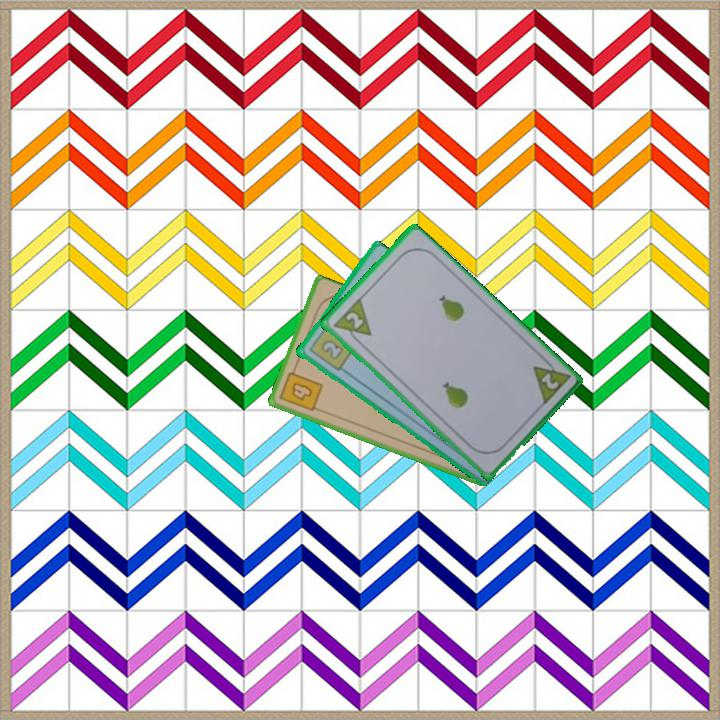2b: (305, 319, 357, 374)
2p: (329, 295, 375, 349), (529, 353, 572, 408)
4b: (276, 363, 326, 414)
